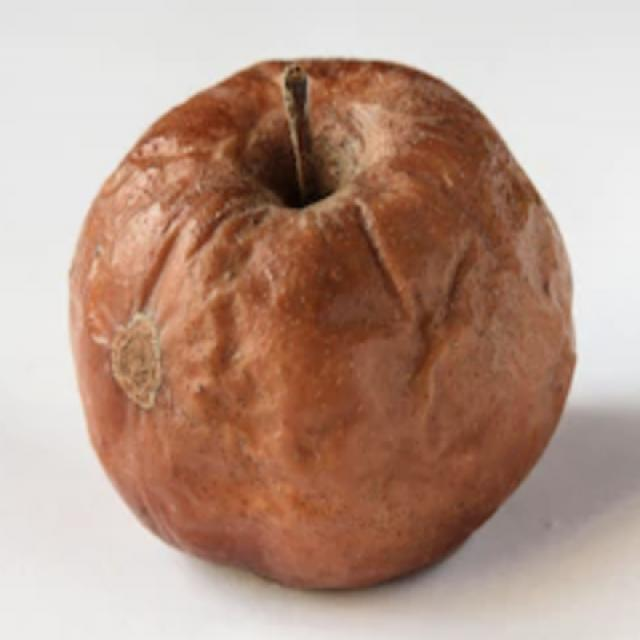Rotten: (85, 41, 585, 582)
